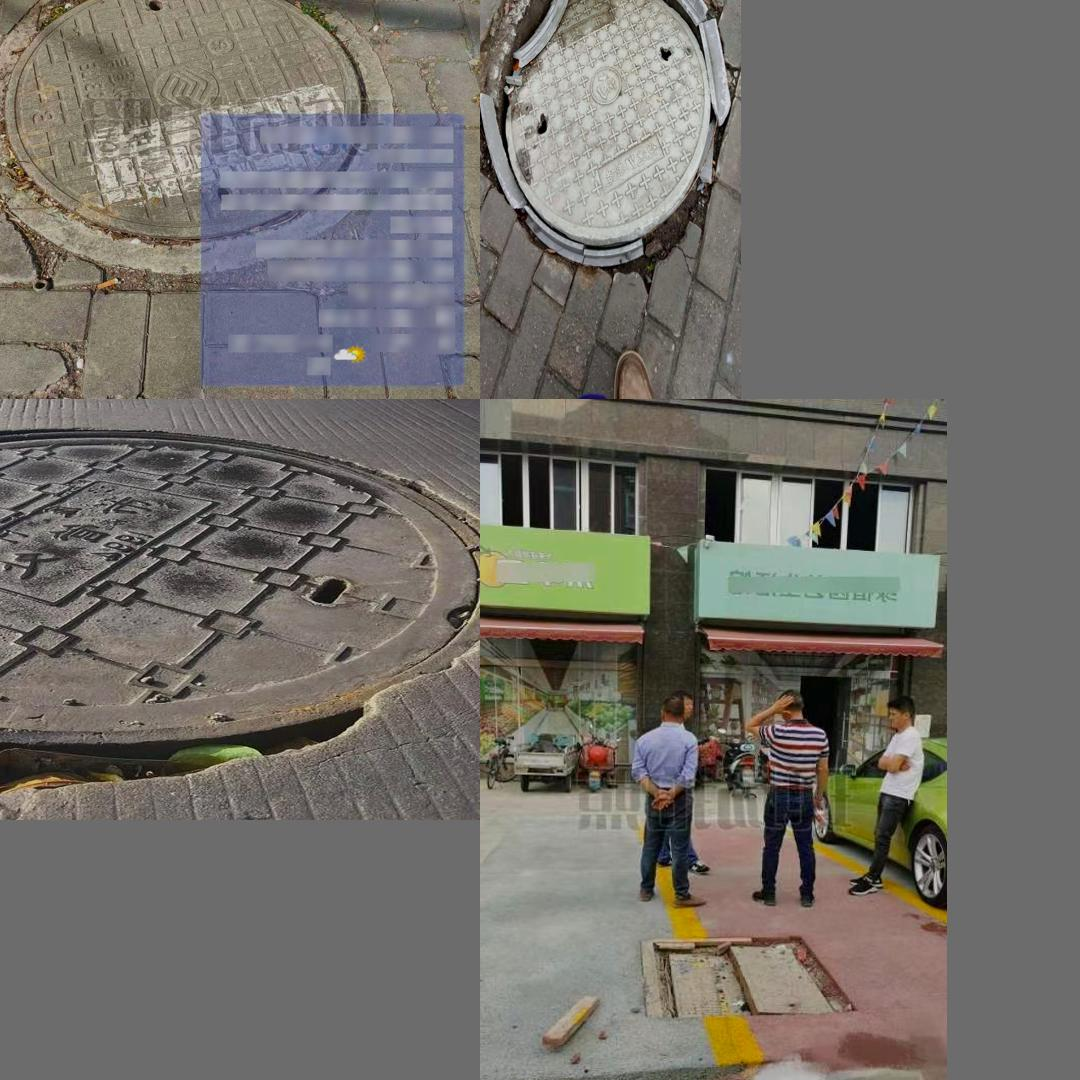circle: (0, 425, 457, 801), (0, 0, 373, 262), (482, 0, 737, 285), (641, 937, 846, 1022)
